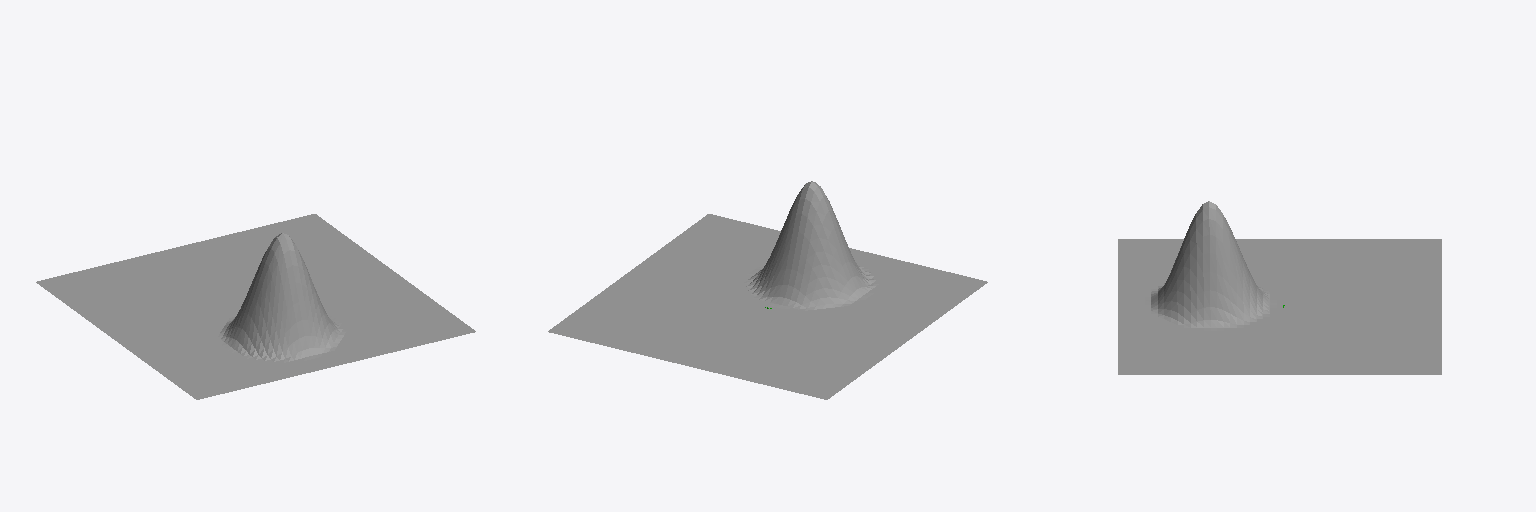
The model's file is mountains2.obj.
3 views of the same model, side by side, from view 1: azimuth 30°, elevation 25°; view 2: azimuth 150°, elevation 25°; view 3: azimuth 270°, elevation 25° (orthographic).
Visible parts, largest first — view 1: Grid_Grid.001; view 2: Grid_Grid.001; view 3: Grid_Grid.001.
Part boxes in pixels (bbox=[...]): Grid_Grid.001: bbox=[36, 214, 475, 399]; Grid_Grid.001: bbox=[548, 181, 987, 399]; Grid_Grid.001: bbox=[1118, 201, 1441, 374].
Bounding box in the file's own units: 15000 × 5208 × 15000.